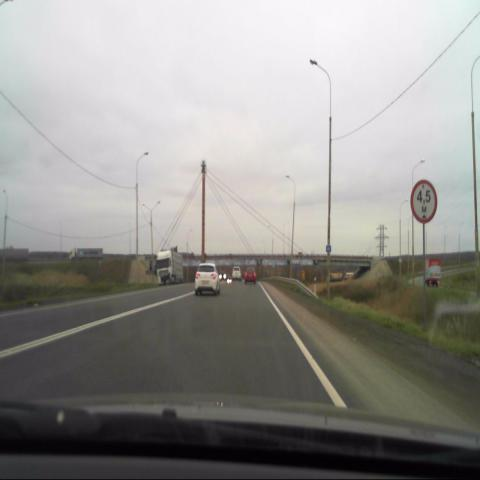3_13: (410, 177, 438, 224)
